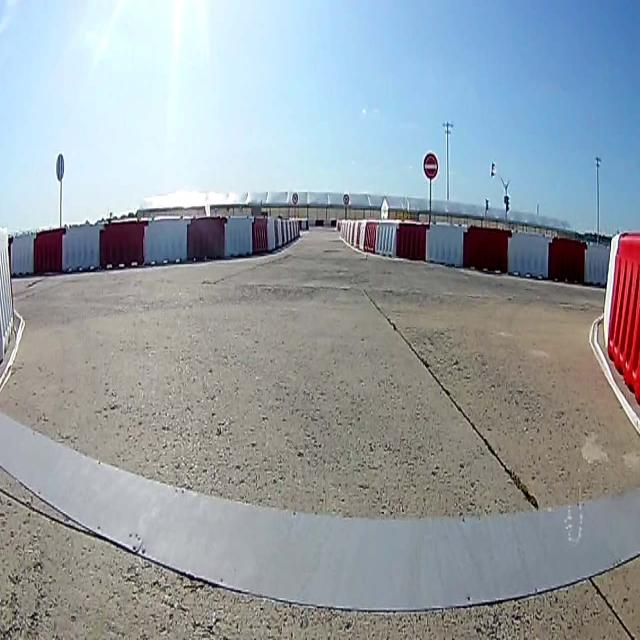girisyok: (422, 153, 438, 181)
